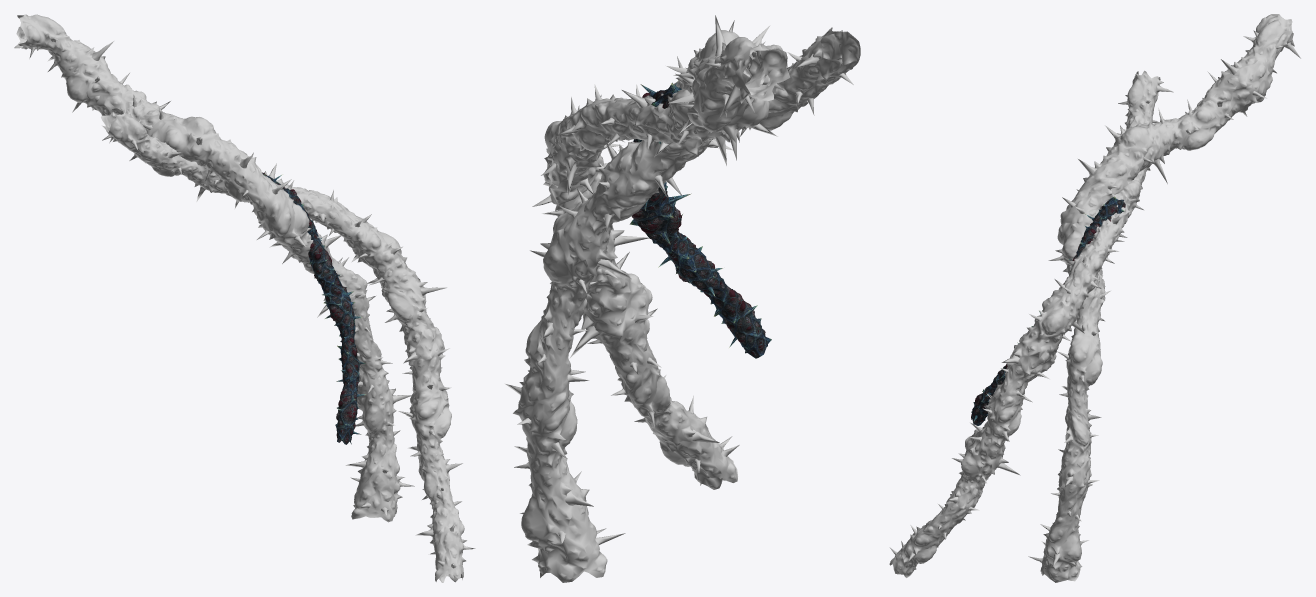
Rendered from backup.fbx.
3 views of the same model, side by side, from view 1: azimuth 30°, elevation 25°; view 2: azimuth 150°, elevation 25°; view 3: azimuth 270°, elevation 25° (orthographic). The views are drawn at different scales.
Visible parts, largest first — view 1: LODGroup_1_MainMesh_1_SubMesh_1, LODGroup_1_MainMesh_1_SubMesh_2; view 2: LODGroup_1_MainMesh_1_SubMesh_1, LODGroup_1_MainMesh_1_SubMesh_2; view 3: LODGroup_1_MainMesh_1_SubMesh_1, LODGroup_1_MainMesh_1_SubMesh_2.
Boxes of the visible parts, <box> form: LODGroup_1_MainMesh_1_SubMesh_1: <box>14,14,475,582</box>; LODGroup_1_MainMesh_1_SubMesh_2: <box>262,172,366,444</box>; LODGroup_1_MainMesh_1_SubMesh_1: <box>505,15,860,582</box>; LODGroup_1_MainMesh_1_SubMesh_2: <box>618,80,771,358</box>; LODGroup_1_MainMesh_1_SubMesh_1: <box>889,14,1300,582</box>; LODGroup_1_MainMesh_1_SubMesh_2: <box>971,196,1125,425</box>.
Size of the model in its own units: 1119 by 1782 by 1460.
